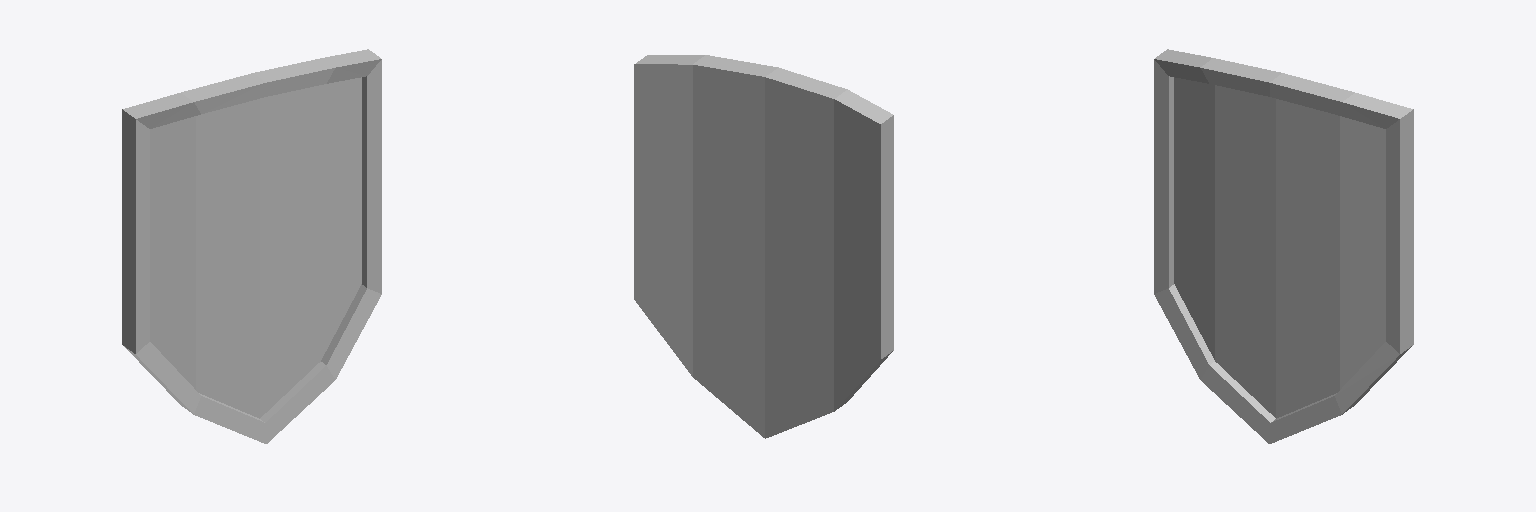
The model's file is shield.obj.
3 views of the same model, side by side, from view 1: azimuth 30°, elevation 25°; view 2: azimuth 150°, elevation 25°; view 3: azimuth 330°, elevation 25° (orthographic).
Parts seen in each view (by area): view 1: Shield_2.001; view 2: Shield_2.001; view 3: Shield_2.001.
Part boxes in pixels (x1,y1,x2,y2): Shield_2.001: (122,49,381,443); Shield_2.001: (634,55,893,438); Shield_2.001: (1154,49,1413,443).
Size of the model in its own units: 2.11 by 2.97 by 0.309.